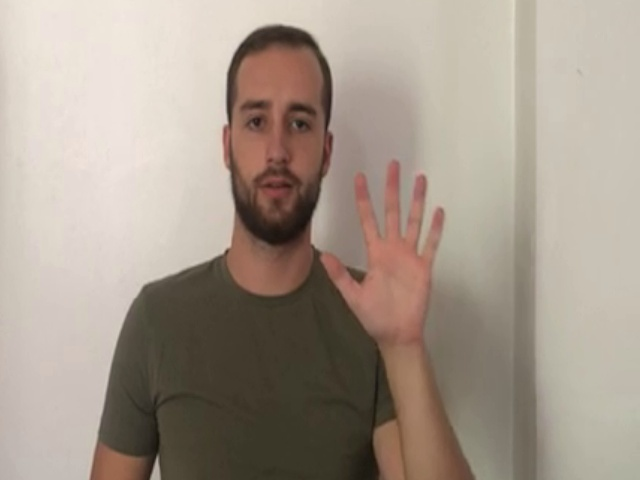Pet i Sedumnaeset: (316, 154, 452, 353)
